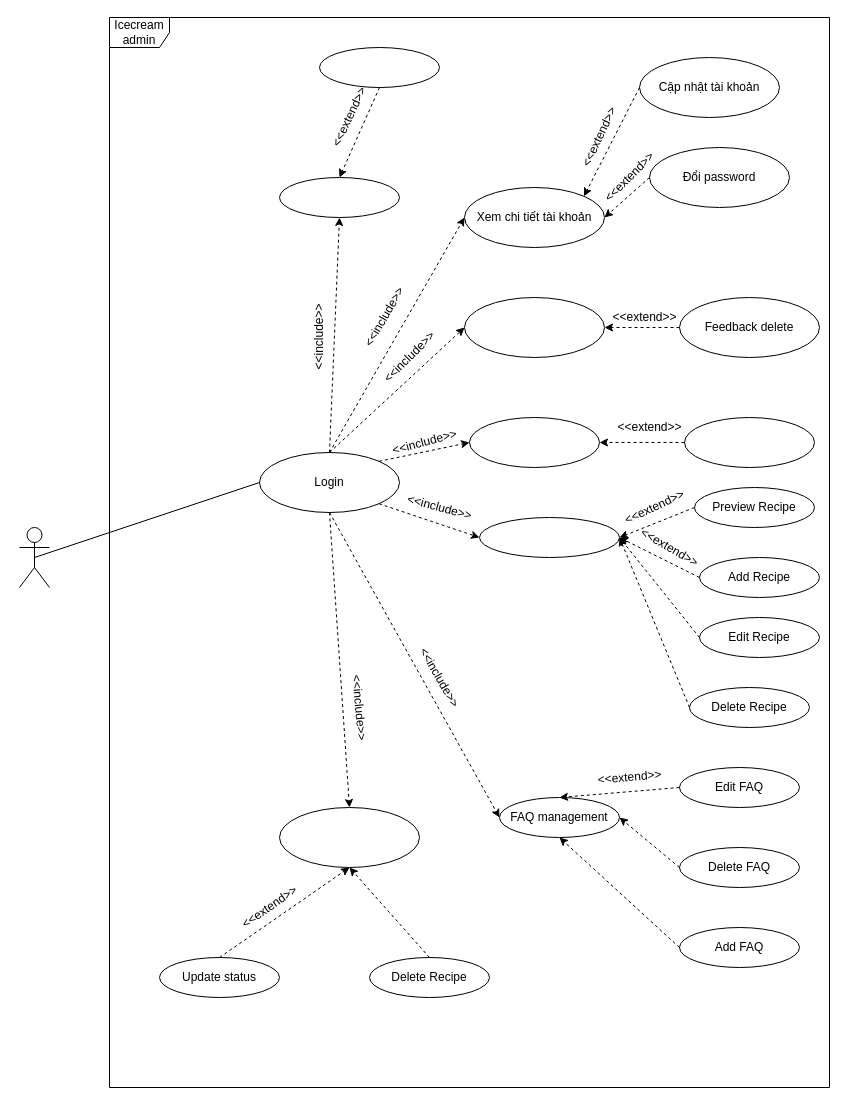
Some shapes in this 847 by 1105 pixel diagram are drawn without their labels. Here are the shapes that lost their labels. From the top down, the box of each, then its label:
(318, 46, 440, 88): Customer detail
(278, 176, 400, 218): Customer management
(464, 296, 604, 358): Feedback management
(468, 416, 600, 468): Customer's recipe management
(684, 416, 814, 468): Customer's recipe detail
(18, 526, 50, 588): Admin
(478, 516, 620, 558): Recipe management
(278, 806, 420, 868): Customer's recipe prize management
